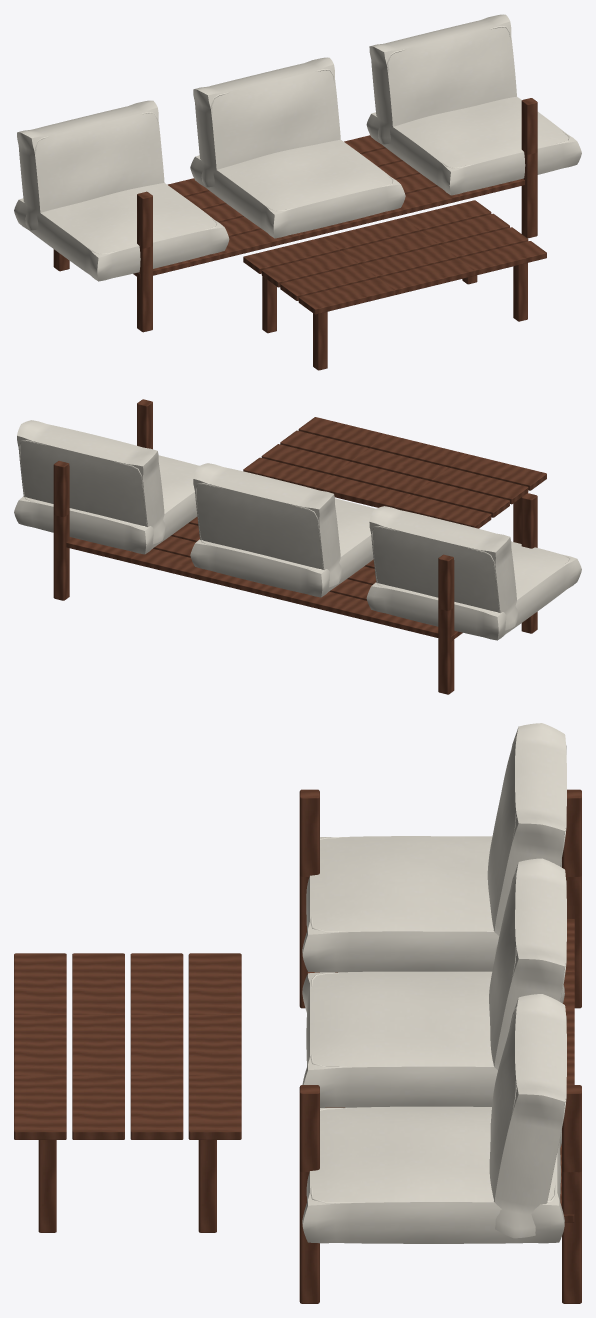
Rendered from kowhai-hero-out-01.glb.
3 renders of one model, top to bottom at view 1: azimuth 30°, elevation 25°; view 2: azimuth 150°, elevation 25°; view 3: azimuth 270°, elevation 25°, orthographic. The views are drawn at different scales.
Visible parts, largest first — view 1: SubPart (×20); view 2: SubPart (×18); view 3: SubPart (×17).
Boxes of the visible parts, x1,y1,x2,y2 form: SubPart (×20): [14, 14, 581, 370]; SubPart (×18): [14, 399, 581, 694]; SubPart (×17): [14, 723, 581, 1303].
Bounding box in the file's own units: 2.42 × 0.7376 × 1.56.
2 materials, 2 textured.
